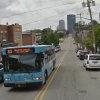Car: (75, 46, 100, 76)
